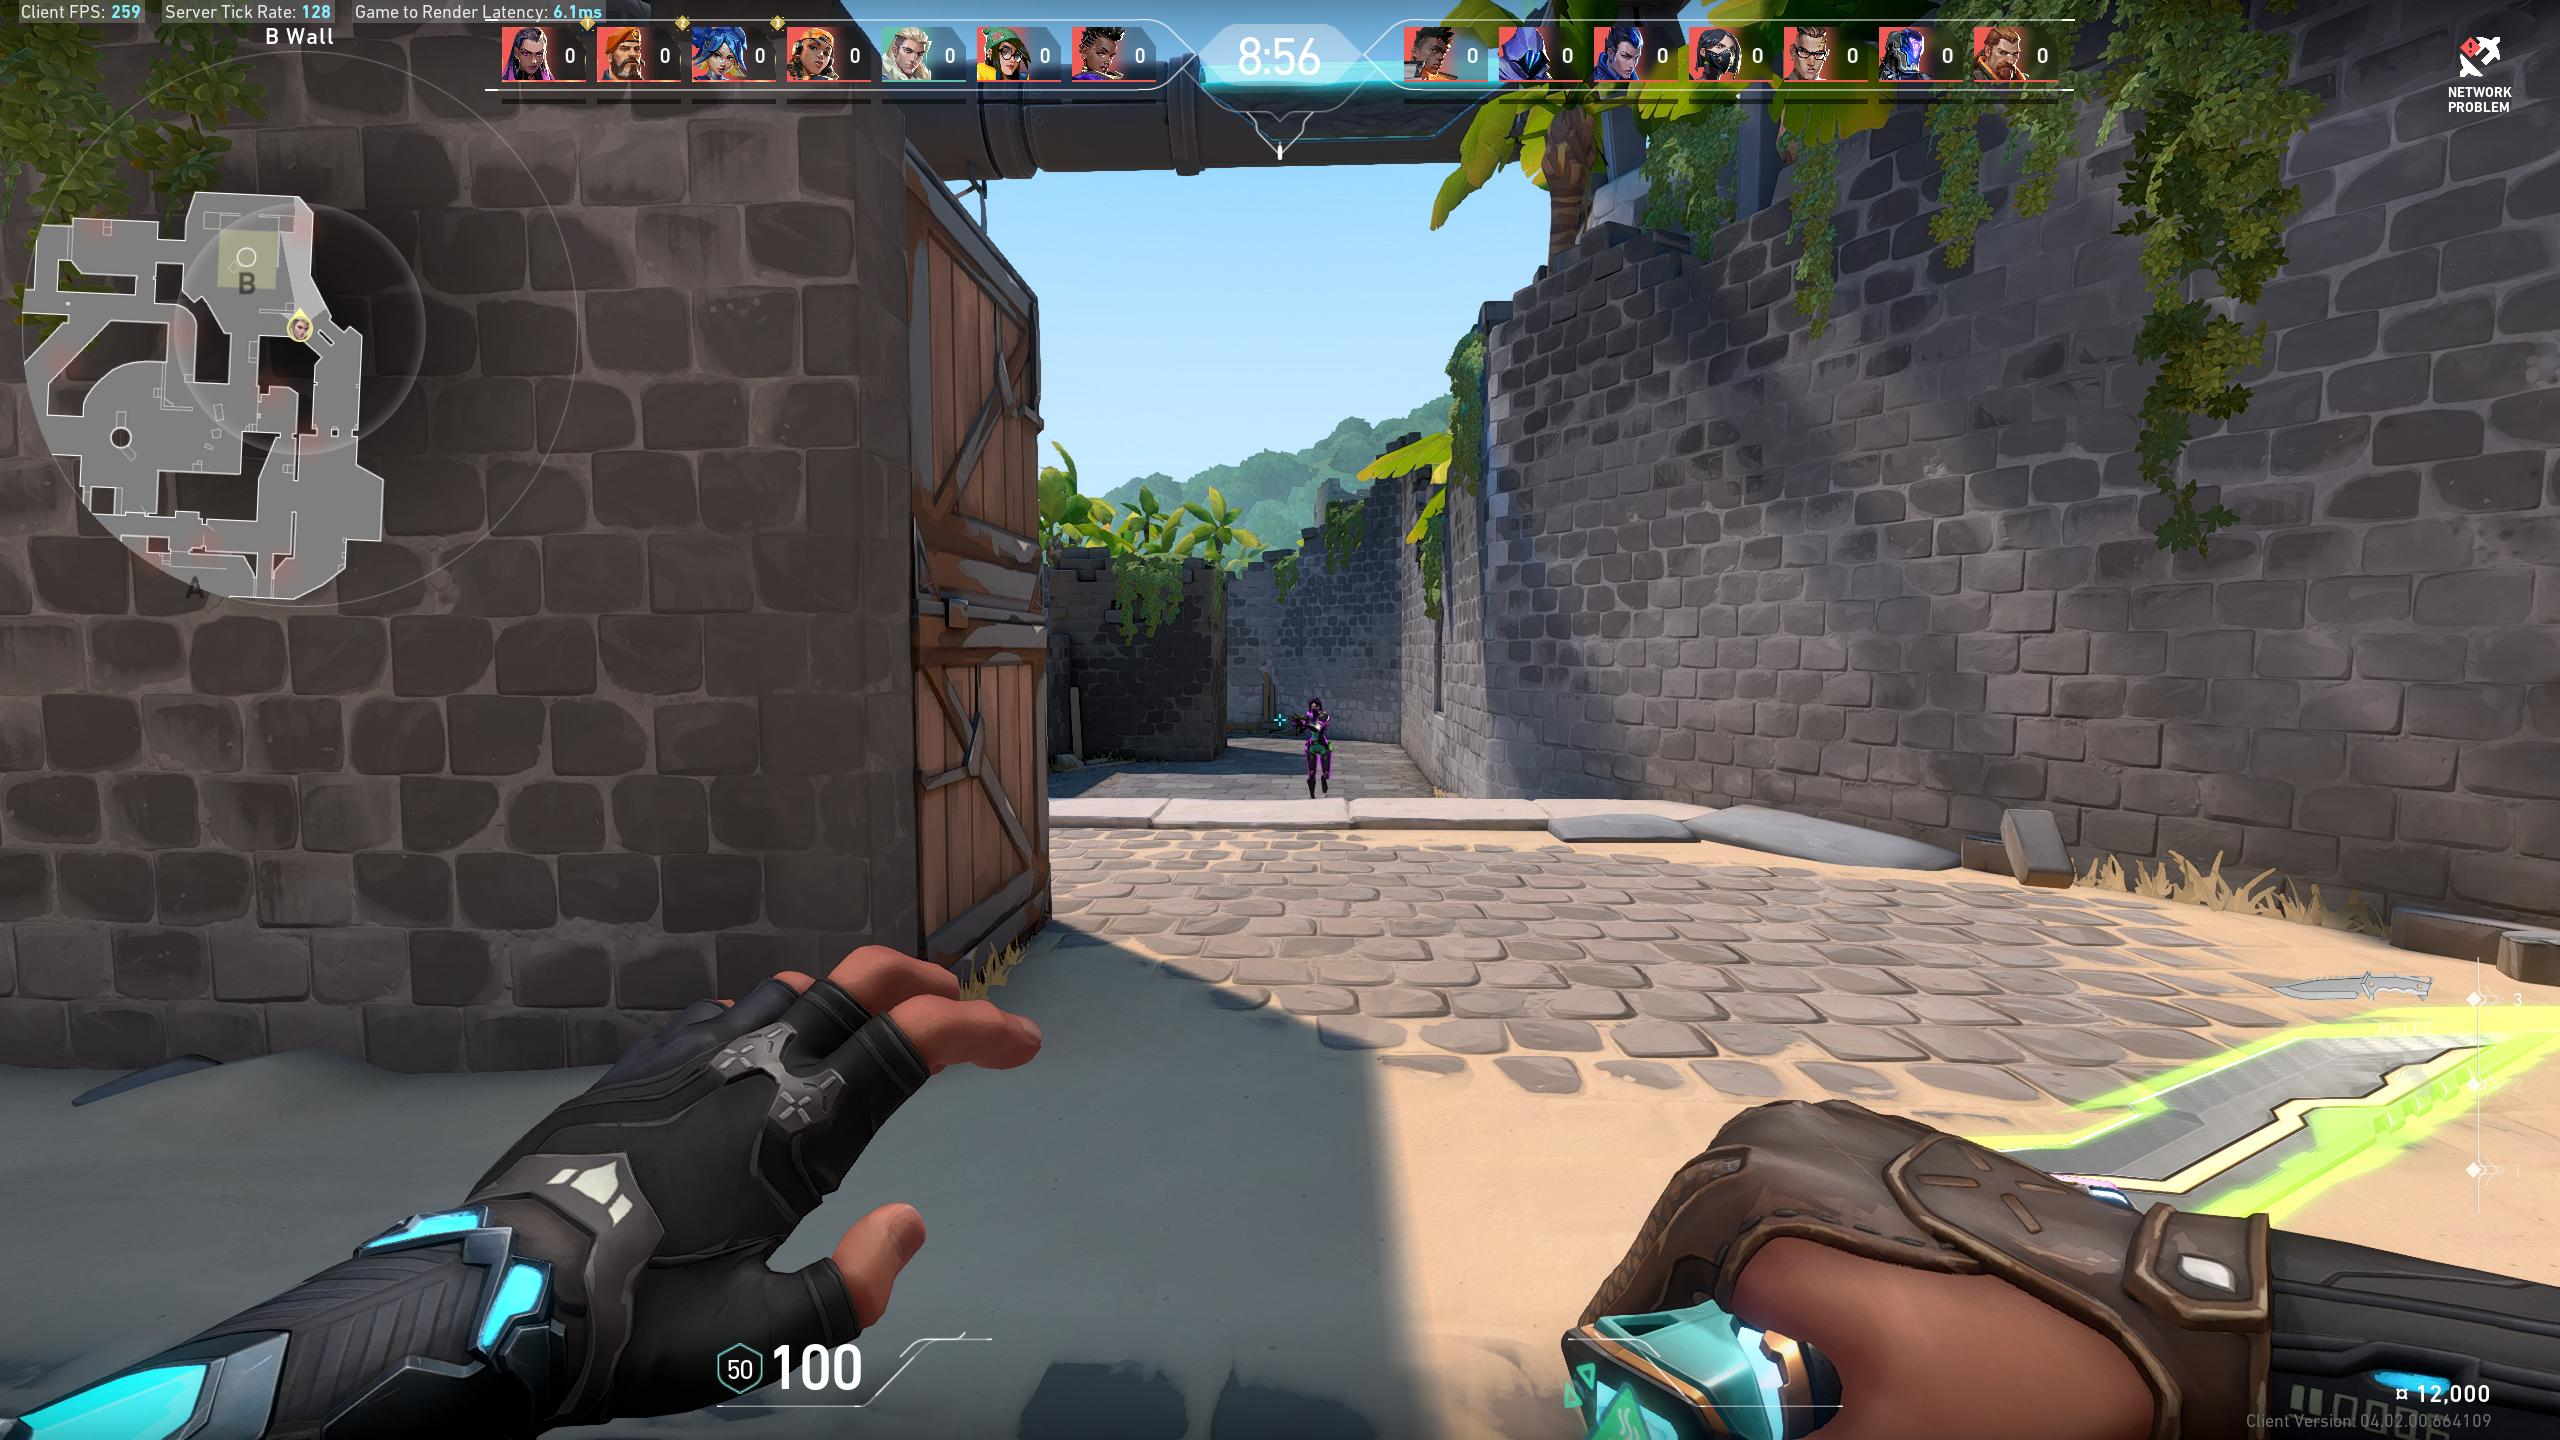enemyBody: (1310, 717, 1322, 740)
enemyHead: (1312, 702, 1319, 712)
